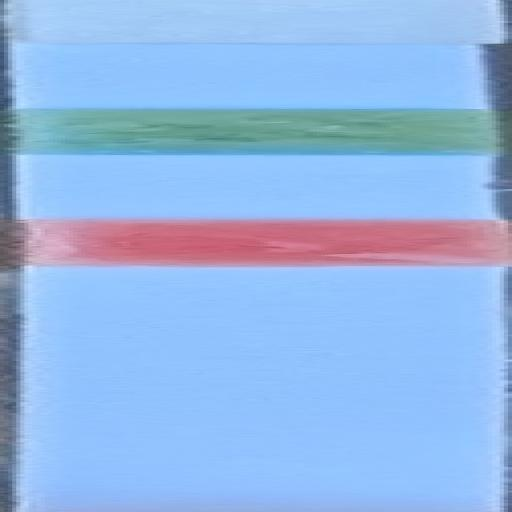pads: (0, 107, 512, 157), (0, 218, 512, 268), (0, 0, 512, 45)
